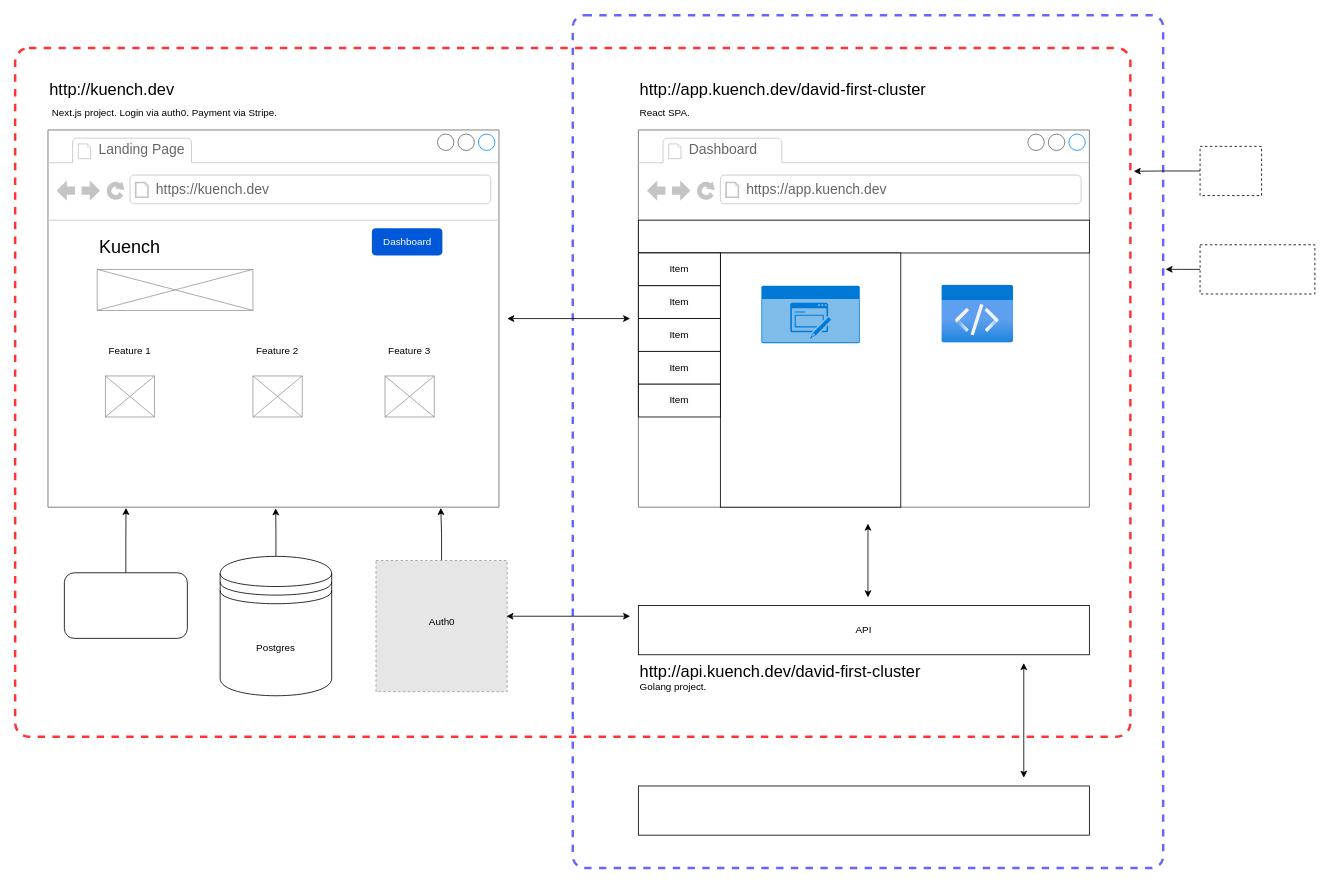
Image size: 1329x883. Some labels were removed from this diagram. Grey dashed boxes stand in for pictures. The shapes that lost their labels are listed below. From the top down, each one's box as (x1, y1, x2, y2) in pixels, then its label:
(1199, 146, 1262, 196): Saas Stack
(638, 219, 1089, 253): Nav Bar
(1199, 244, 1315, 294): Open-Source Stack
(761, 285, 859, 343): Form
(64, 572, 187, 638): Stripe
(638, 785, 1089, 835): Kubernetes API
